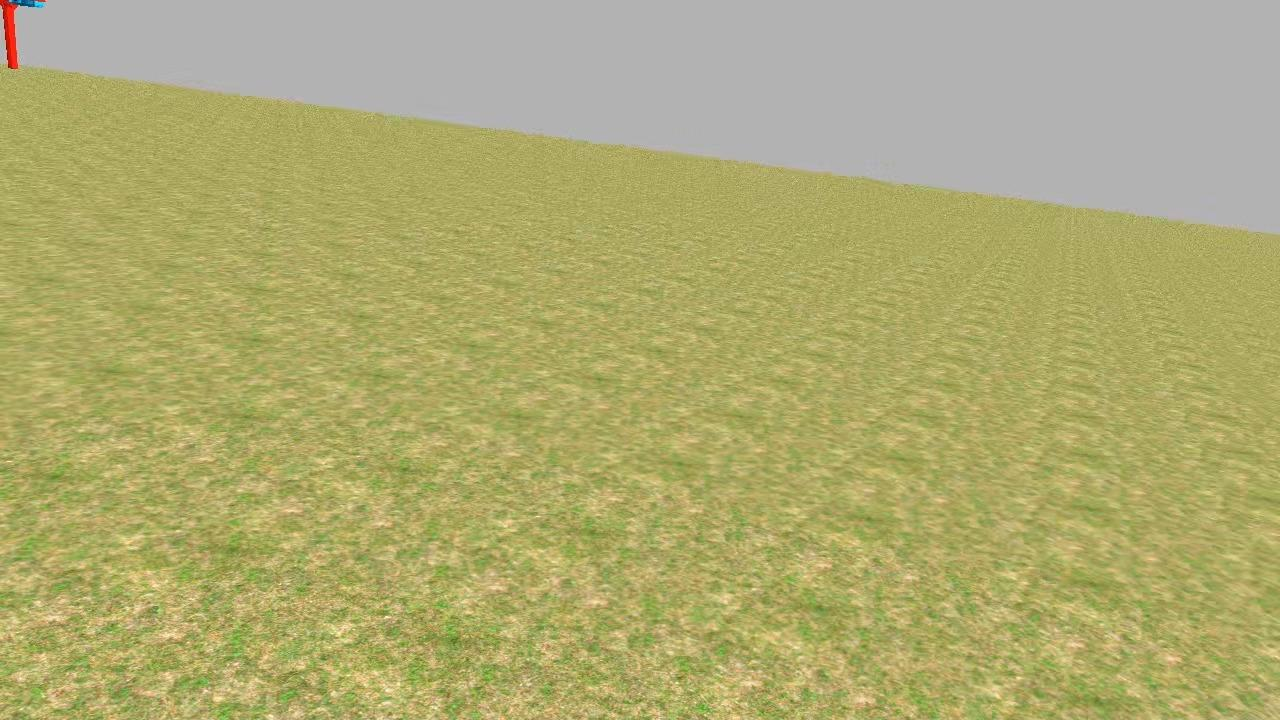UAV: (0, 0, 68, 84)
